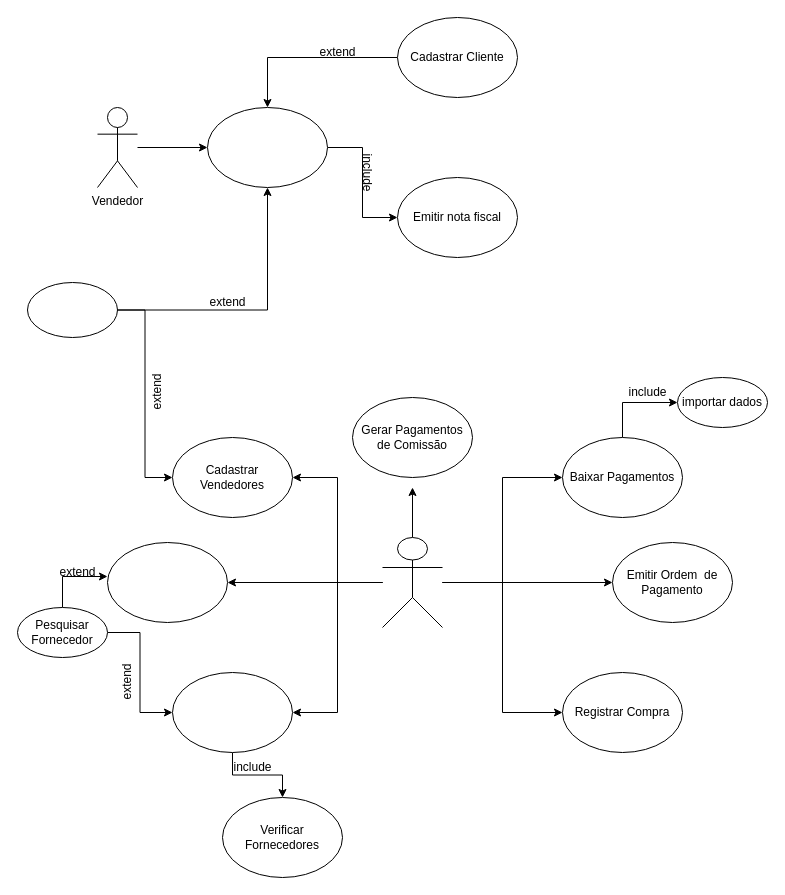
The diagram is 785 pixels wide and 895 high, and some of its shapes have lost their labels. Here are the shapes that lost their labels. From the top down, the box of each, then its label:
(206, 106, 328, 188): Registrar Venda
(26, 282, 118, 338): Pesquisar Vendedor
(106, 542, 228, 622): Cadastrar Fornecedores
(382, 536, 442, 628): Gerente
(172, 672, 292, 752): Realizar Encomenda
